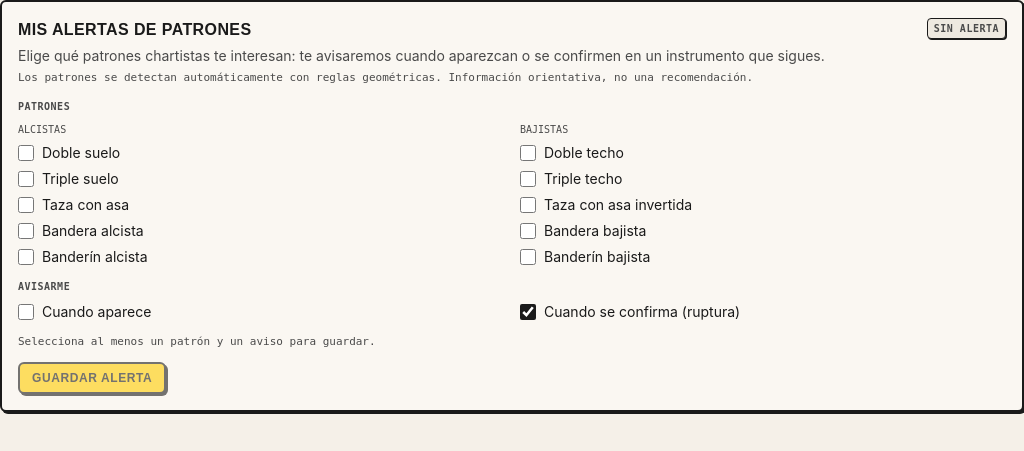
Test: shows a 422 message inline
This screenshot has width=1024, height=451.
Click the checkbox labelled "Doble techo": (528, 152) [520, 144, 536, 160]
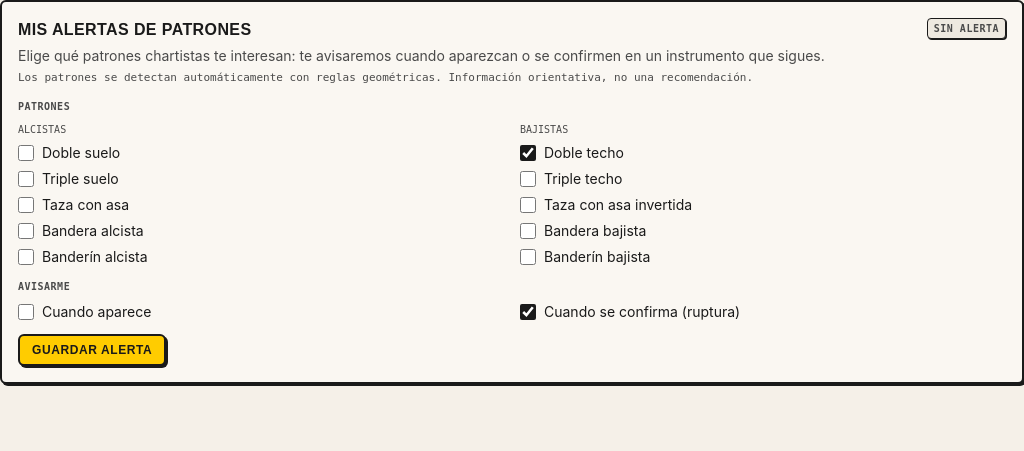
Click the button "Guardar alerta": (92, 350) [18, 334, 166, 366]
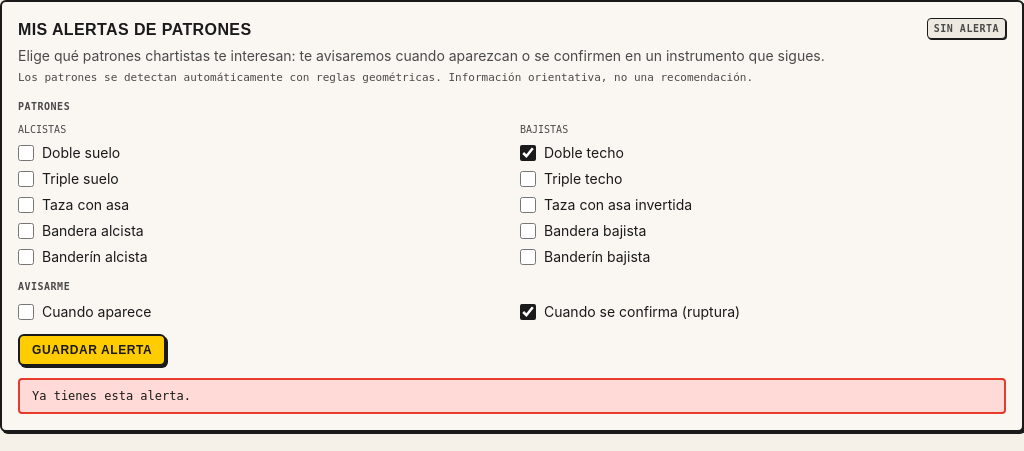
Now the message reads "Ya tienes esta alerta.", box [32, 388, 191, 402]
